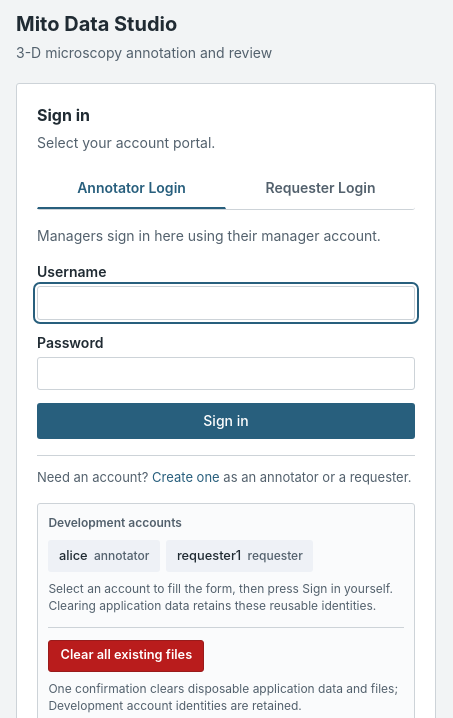
Test: development account login helper › appears below registration and only fills the normal login form
The image size is (453, 718).
expect the text "Development accounts" is shown: met, box [48,515,182,530]
expect the element with class "login-hint" is shown: met, box [37,455,415,487]
Click the button "alice annotator".
click(104, 556)  # box [48,540,160,572]
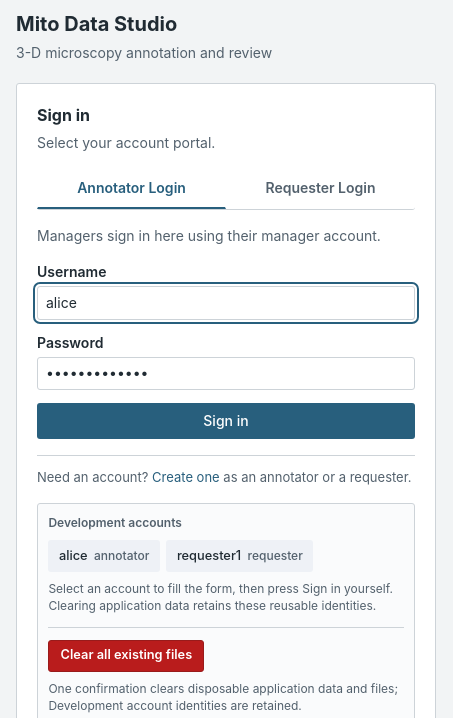
expect the field labelled "Username" holds "alice": met, box [37,286,415,320]
expect the password field labelled "Password" holds "demo-password": met, box [37,357,415,390]
